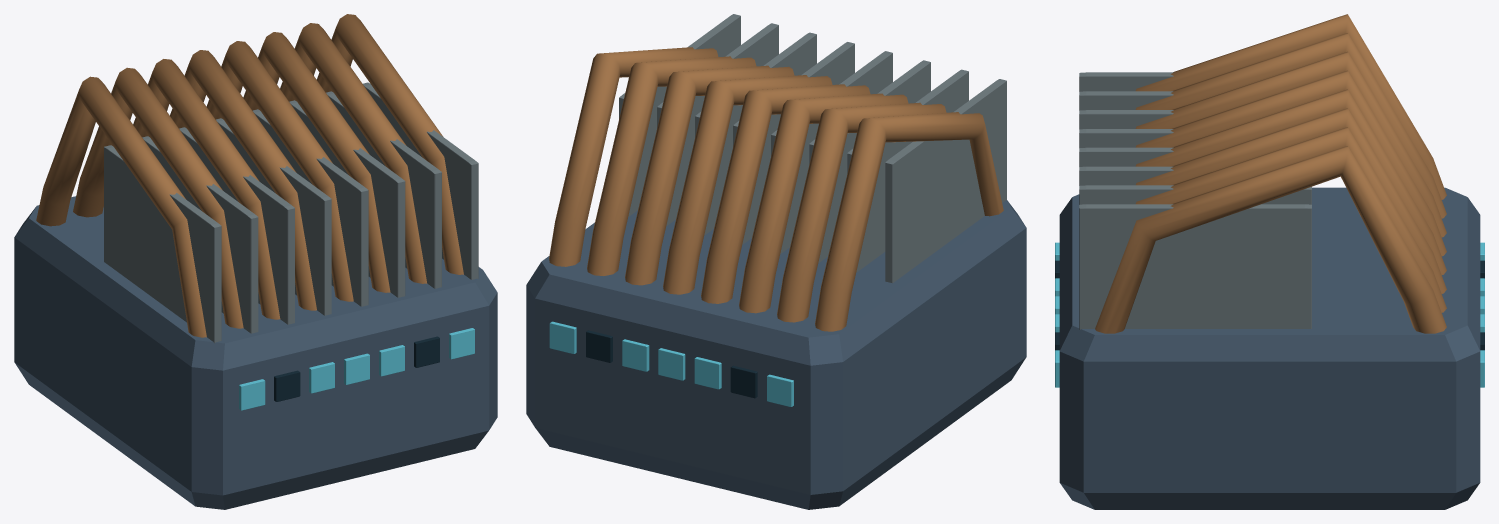
File: ignis_exchange.glb
The picture shows the model from 3 angles, left to right: view 1: azimuth 30°, elevation 25°; view 2: azimuth 150°, elevation 25°; view 3: azimuth 270°, elevation 25°; orthographic projection. The views are drawn at different scales.
Visible parts, largest first — view 1: ignis_exchange; view 2: ignis_exchange; view 3: ignis_exchange.
Part boxes in pixels (<box>): ignis_exchange: <box>14,14,497,509</box>; ignis_exchange: <box>526,14,1026,509</box>; ignis_exchange: <box>1055,14,1484,509</box>.
Size of the model in its own units: 15 by 15.83 by 17.36.
